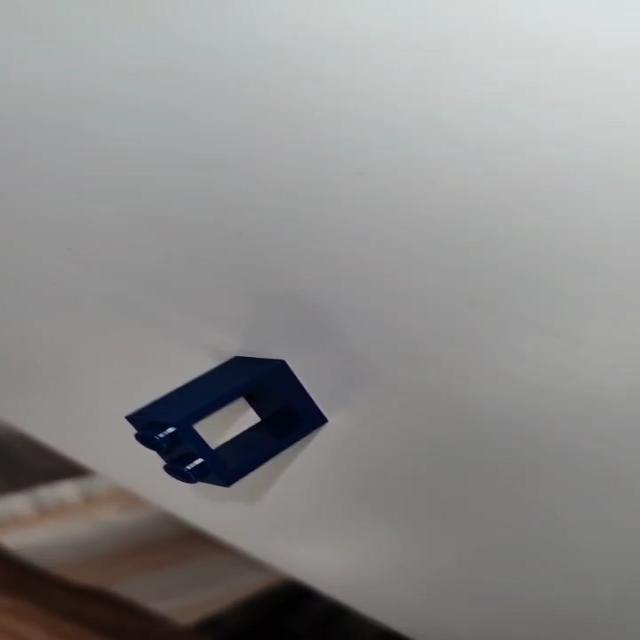W2x1x2: (121, 352, 333, 490)
